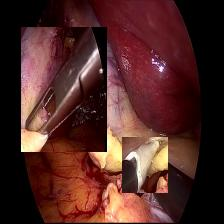Grasper: (21, 27, 107, 152)
Hook: (122, 138, 168, 194)
